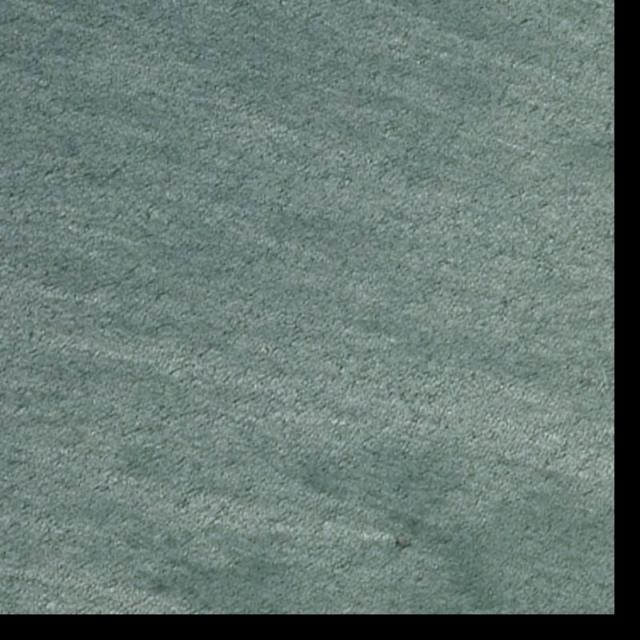ship: (395, 540, 412, 547)
